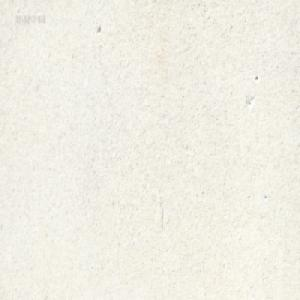Wrench: (163, 0, 170, 5)
